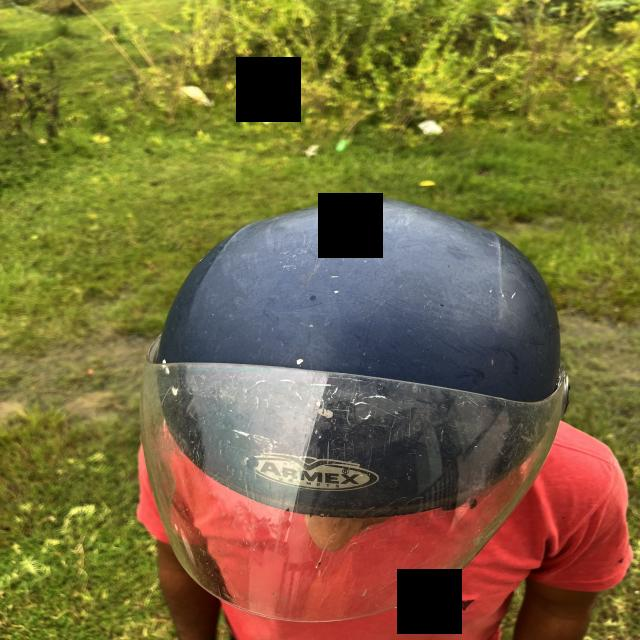Helmet: (143, 198, 567, 621)
